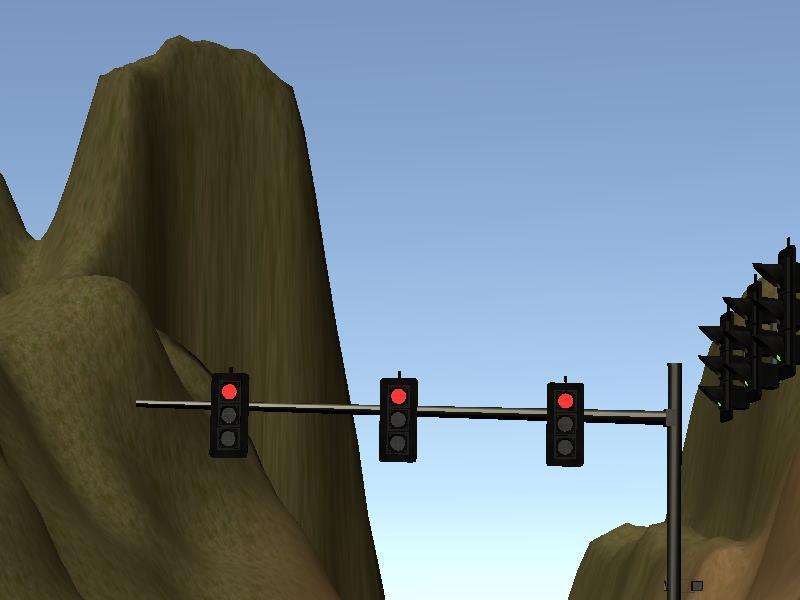Red: (378, 377, 415, 464), (545, 382, 583, 466), (210, 374, 248, 457)
